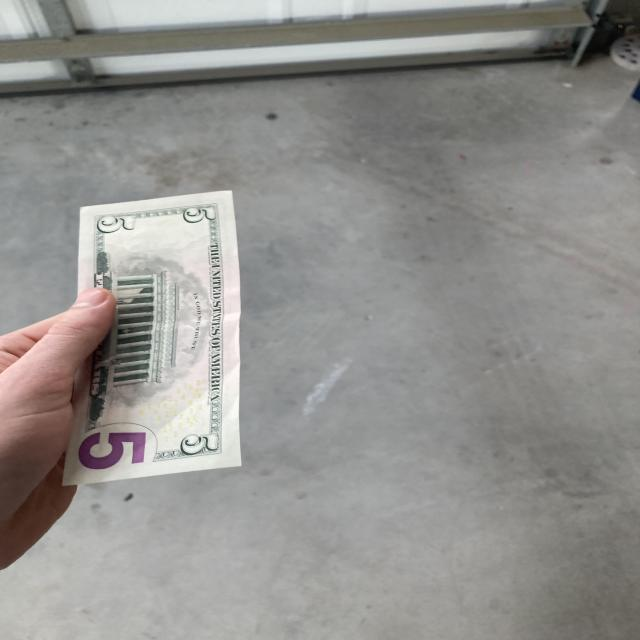five: (56, 190, 243, 487)
